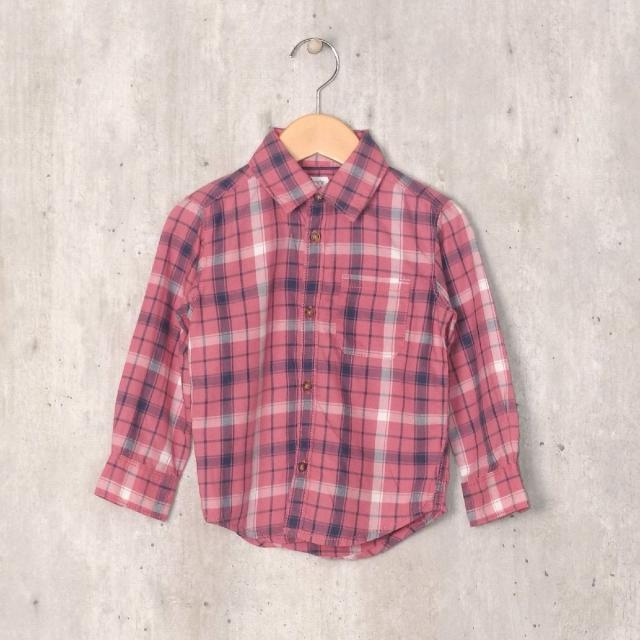long sleeve shirt: (94, 123, 532, 562)
